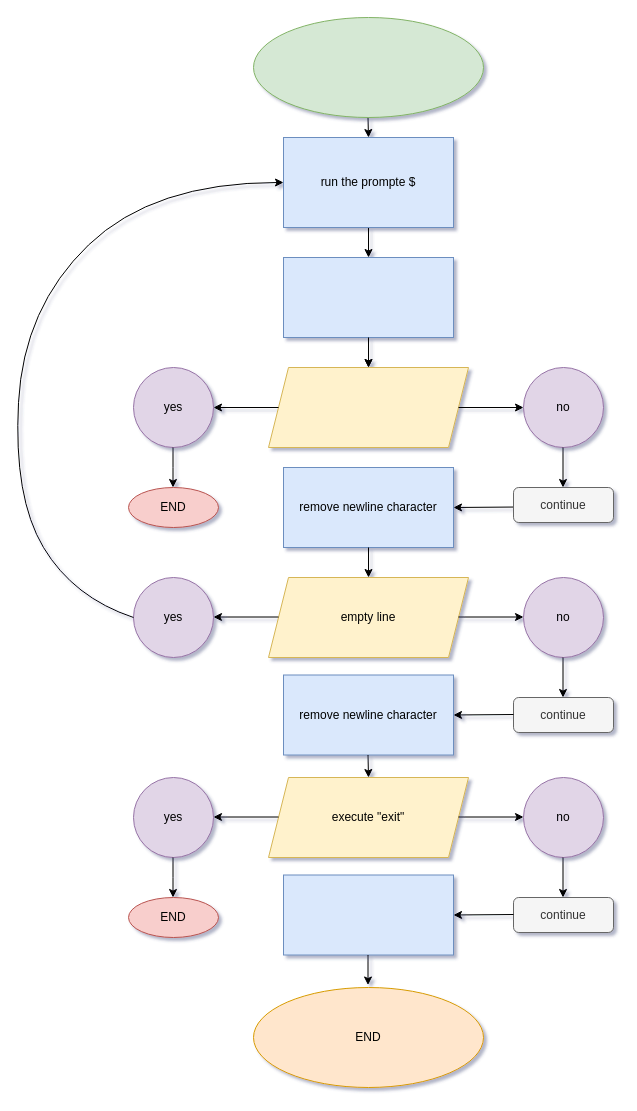
Some shapes in this 637 by 1111 pixel diagram are drawn without their labels. The shapes that lost their labels are listed below. From the top down, each one's centre as x and y in pixels, then its label:
point (368, 67): simple_shell.c
point (368, 297): read the command enter
point (368, 407): EOF detected
point (368, 914): execute the command
